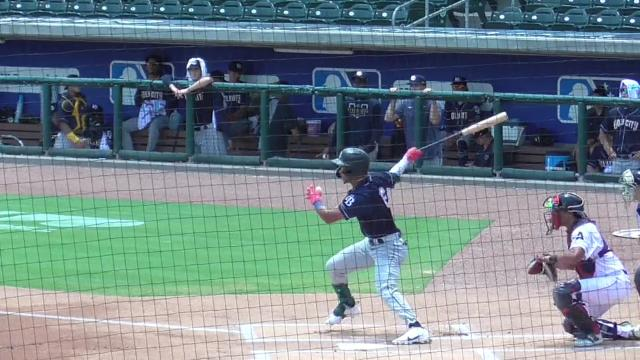baseball bat: (420, 111, 510, 151)
